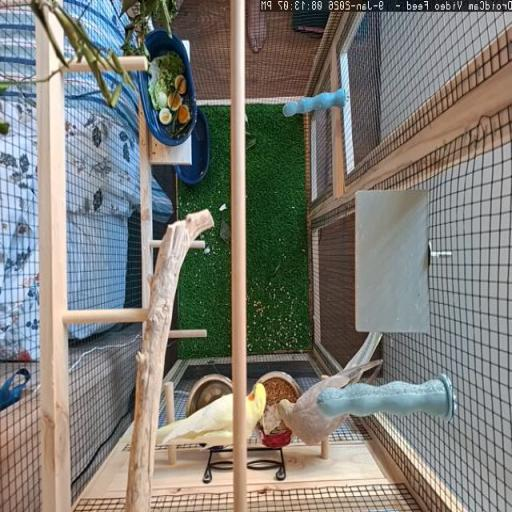bebedero: (186, 373, 232, 416)
comedero: (257, 371, 302, 447)
ninfa: (278, 333, 381, 444), (157, 394, 233, 444), (246, 383, 266, 437)
